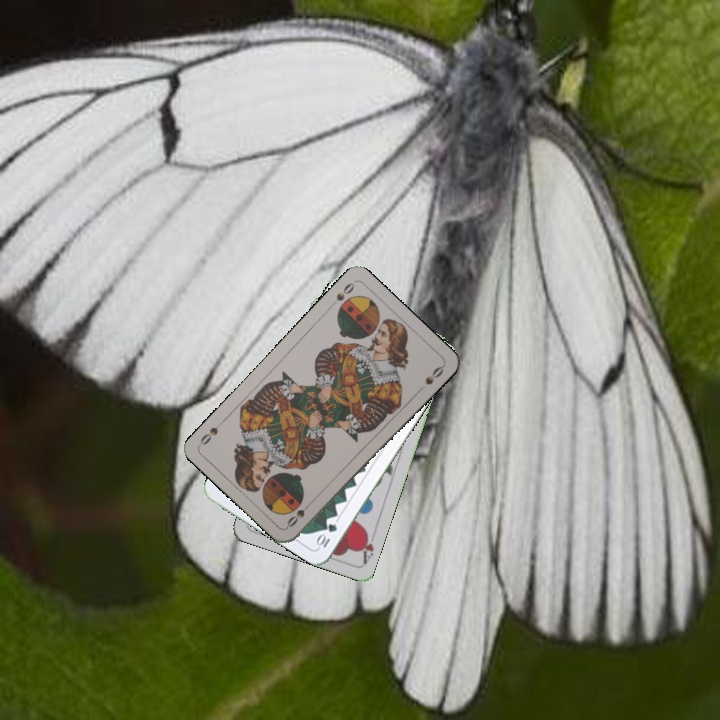G10: (313, 519, 340, 550)
HA: (356, 526, 379, 566)
SO: (283, 497, 315, 530), (326, 279, 357, 310)
